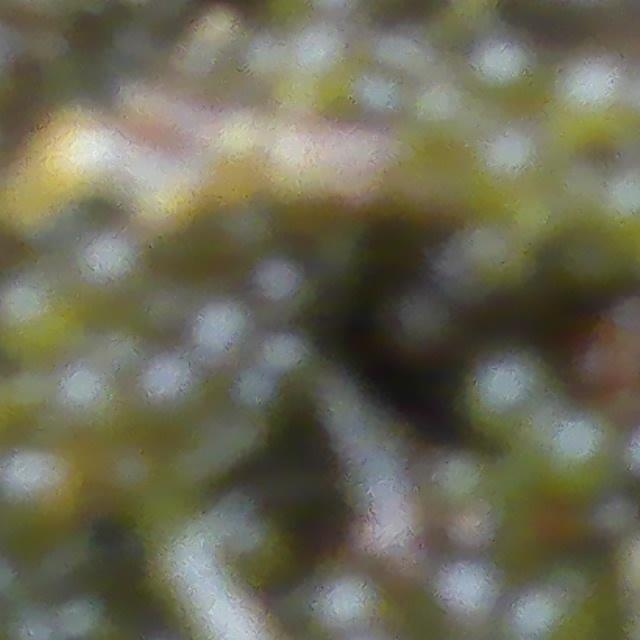SeaGrape: (0, 272, 81, 363), (464, 350, 550, 430), (79, 232, 139, 287), (292, 25, 348, 82), (1, 448, 57, 500)
